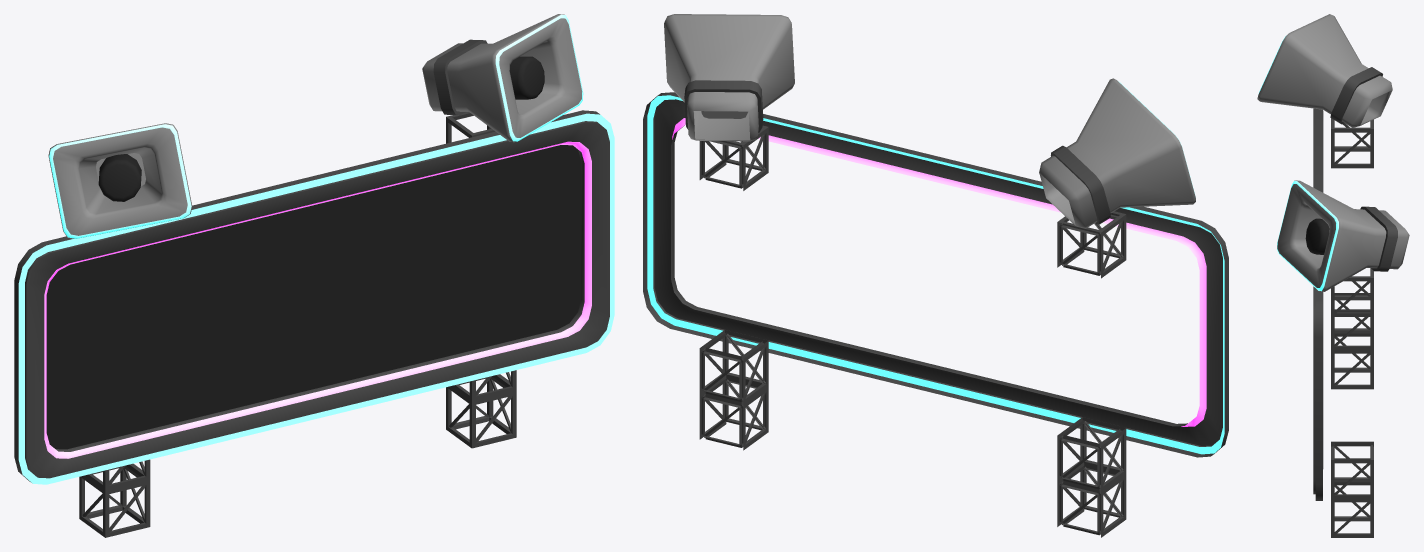
Rendered from mesh_Rooftop_Leadboard.fbx.
3 renders of one model, left to right at view 1: azimuth 30°, elevation 25°; view 2: azimuth 150°, elevation 25°; view 3: azimuth 270°, elevation 25°, orthographic. The views are drawn at different scales.
Visible parts, largest first — view 1: mesh_Rooftop_Leadboard; view 2: mesh_Rooftop_Leadboard; view 3: mesh_Rooftop_Leadboard.
Part boxes in pixels (x1,y1,x2,y2): mesh_Rooftop_Leadboard: (14, 14, 614, 537); mesh_Rooftop_Leadboard: (643, 14, 1228, 537); mesh_Rooftop_Leadboard: (1257, 14, 1409, 537).
Bounding box in the file's own units: 1024 × 696 × 273.
